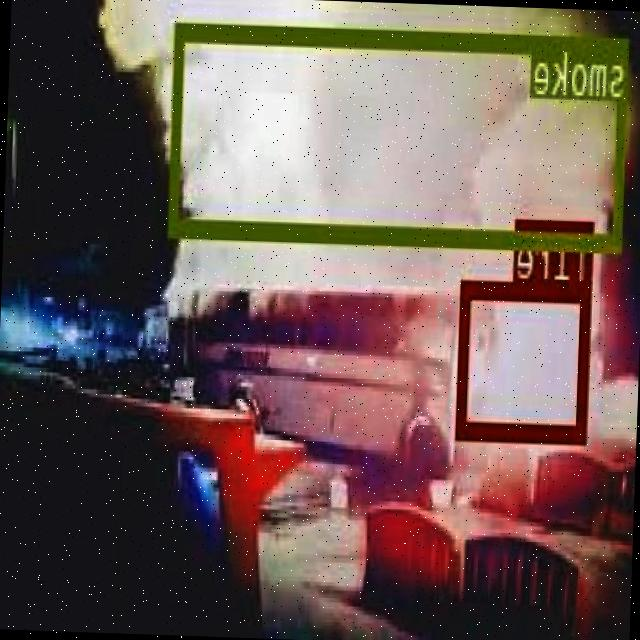fire: (459, 276, 594, 438)
smoke: (170, 18, 632, 248)
